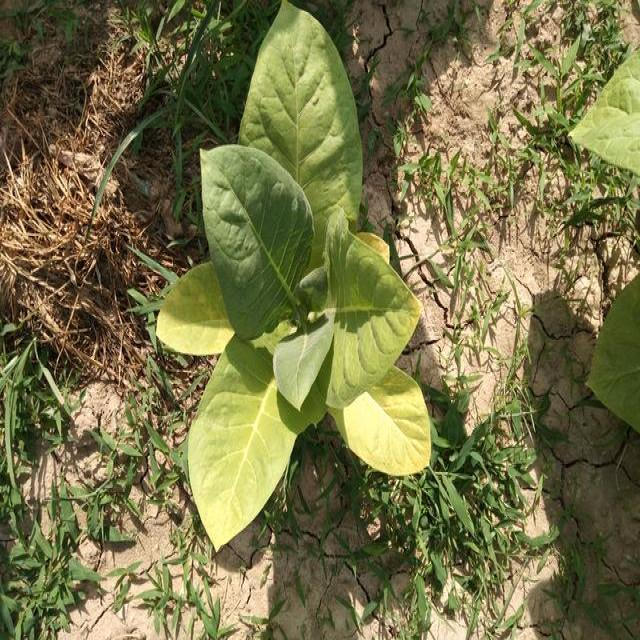crop: (154, 9, 436, 549)
